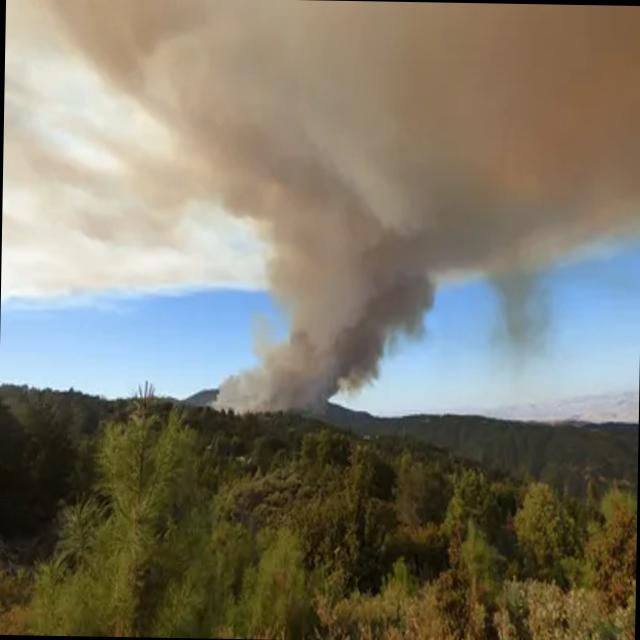Smoke: (210, 202, 435, 434)
